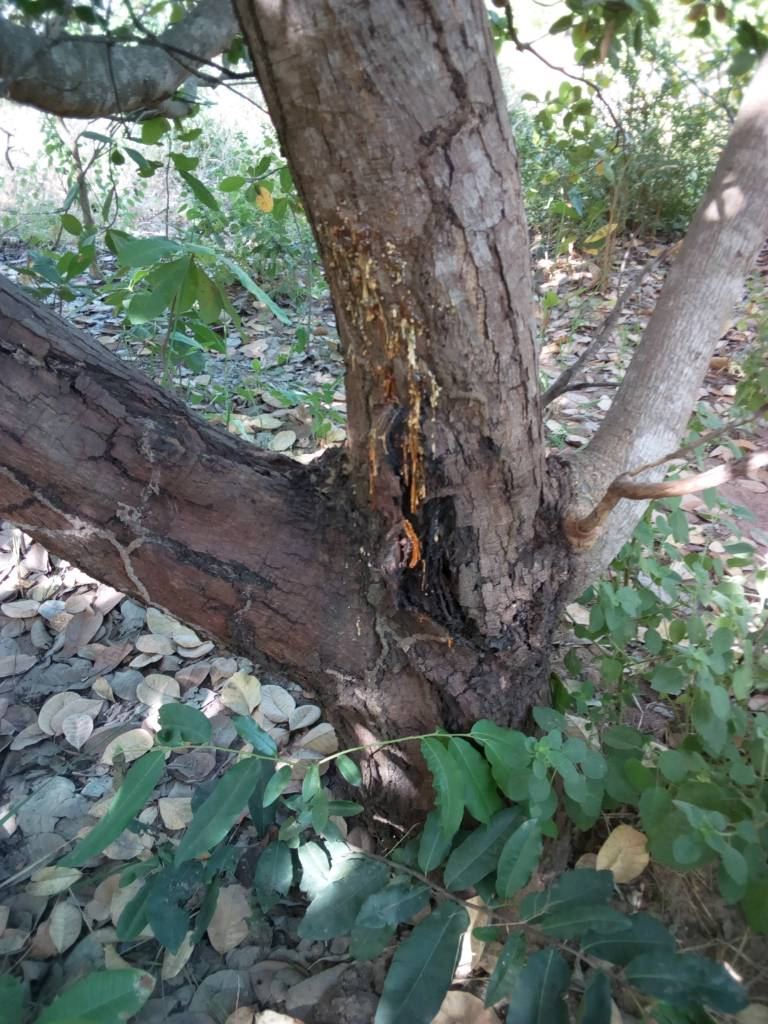Gommose: (329, 253, 569, 694)
